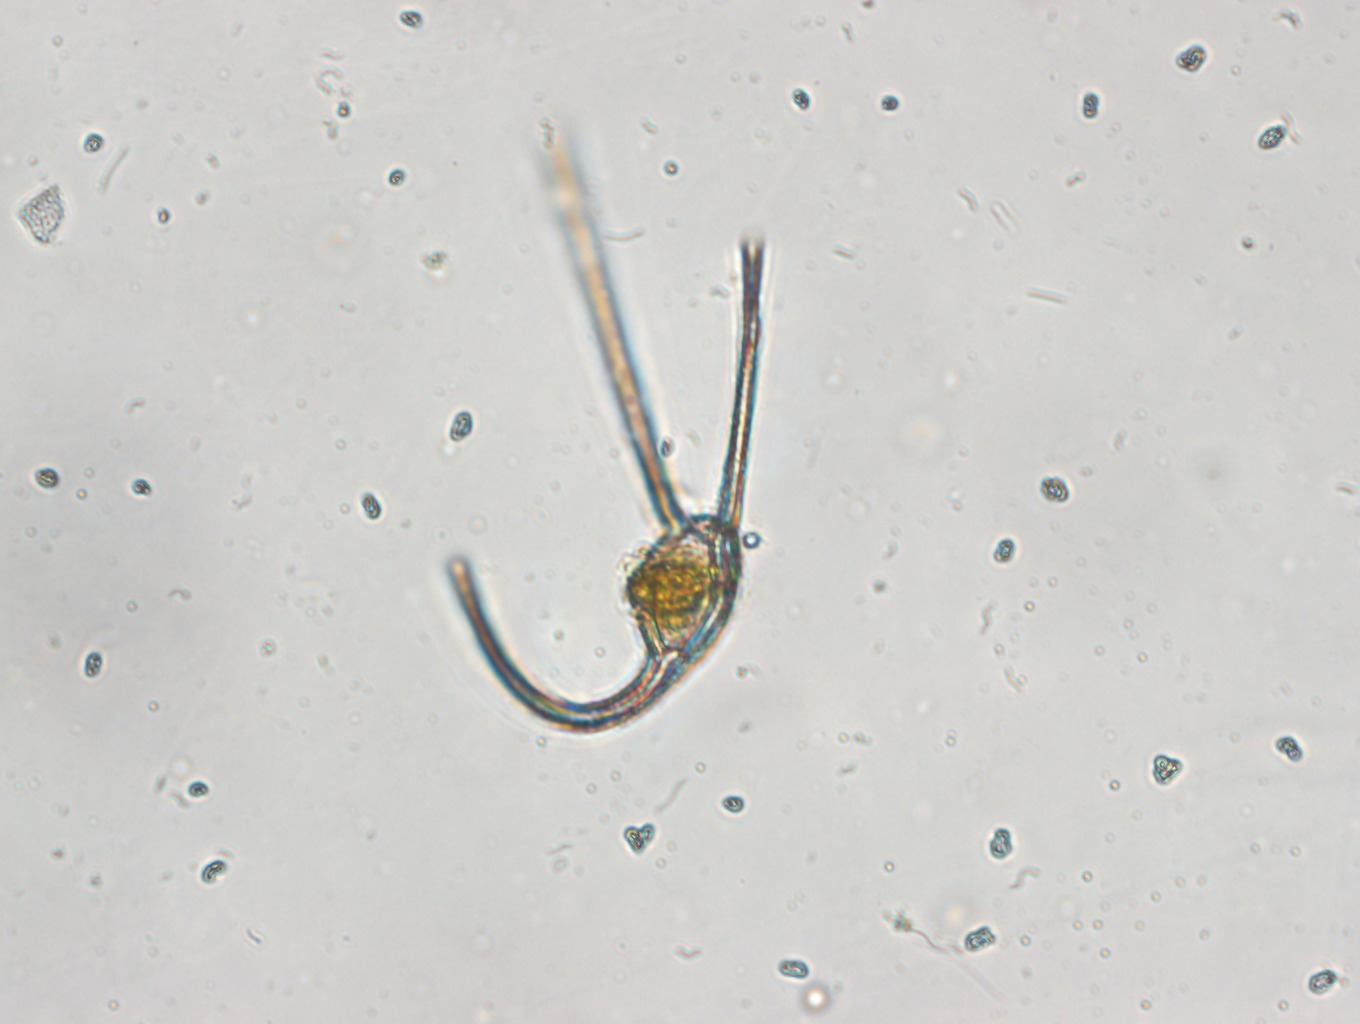ceratium trichoceros: (443, 106, 776, 740)
